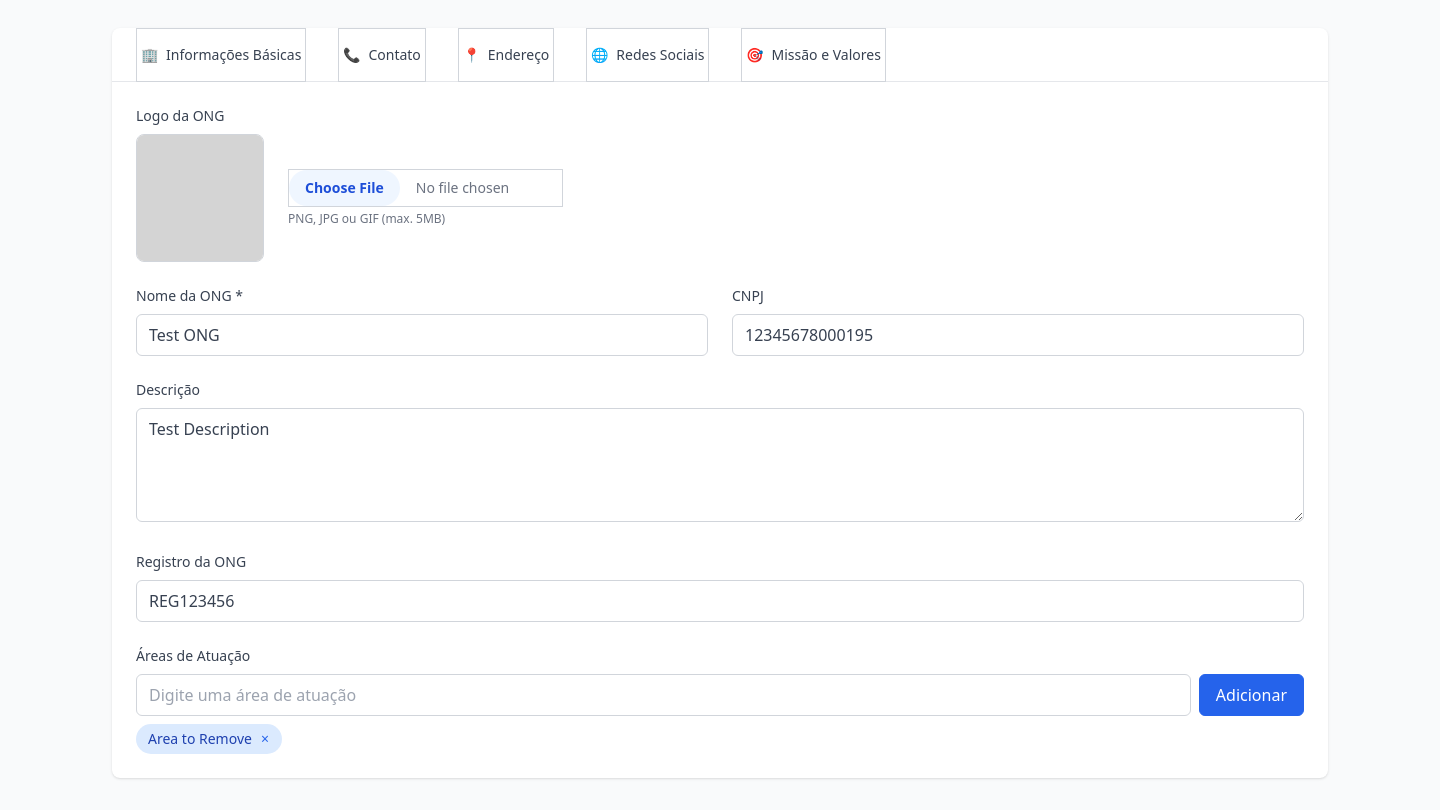
ONGSettingsPage › Areas of Operation › should remove area of operation
(page scrolled)
Check: the text "Area to Remove" is shown, box [148,729,252,748]
What coordinates should you click on to do the following:
click the button "×"
I would click on:
 (265, 739)
Its box is [260,728,270,750].
(page scrolled)
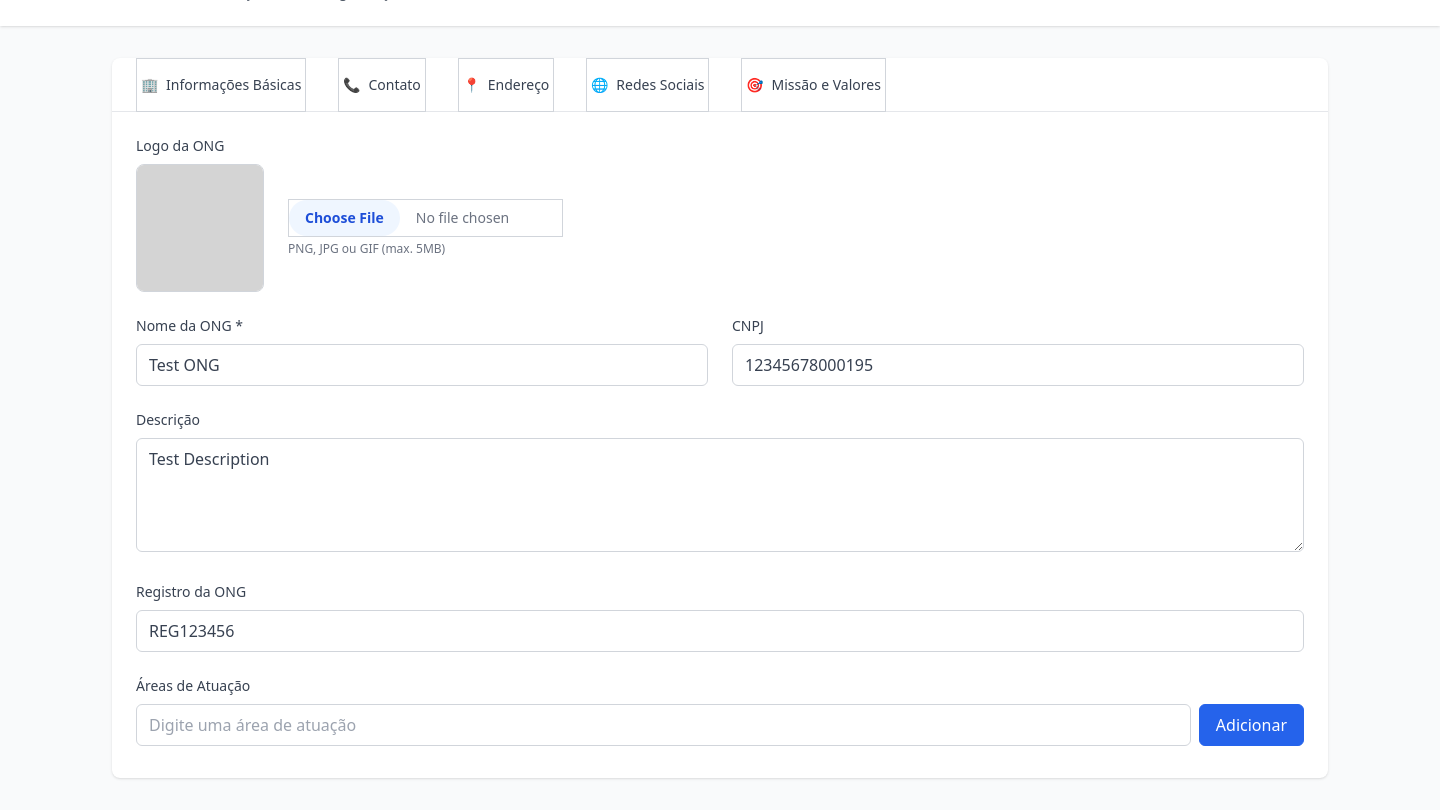
Check: the text "Area to Remove" is gone
